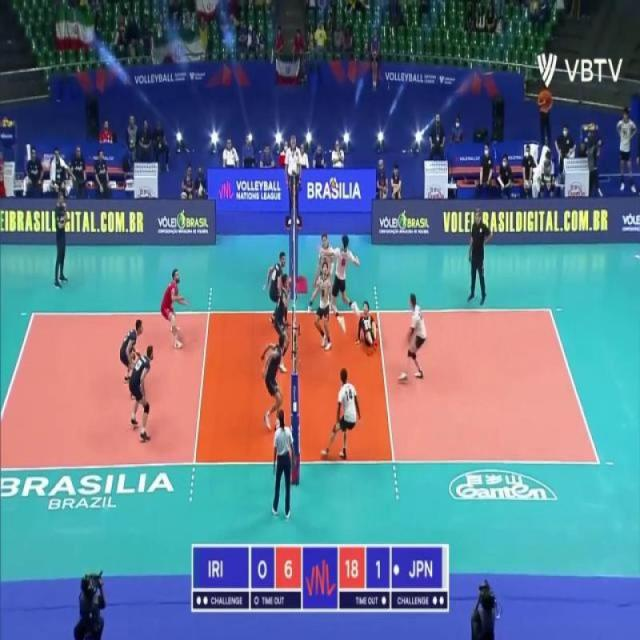volleyball: (330, 175, 338, 190), (588, 122, 596, 130), (2, 116, 8, 126), (582, 124, 589, 130)
